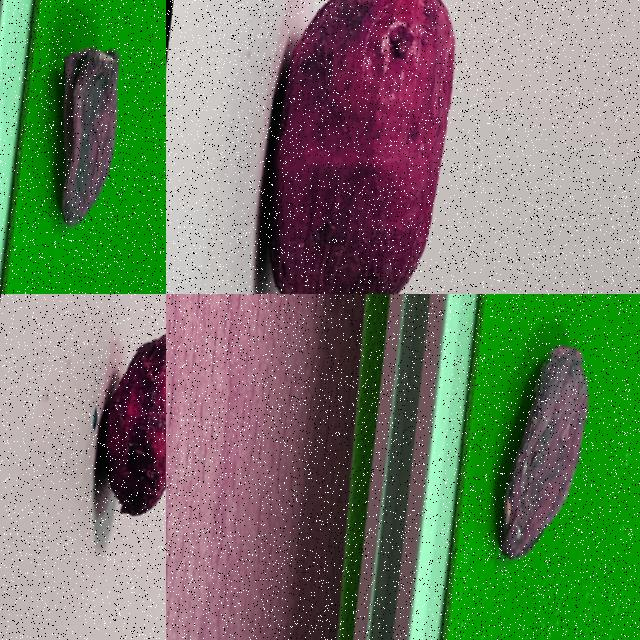Fine_cocoabeans: (221, 0, 488, 293)
Flat_cocoabeans: (461, 294, 631, 615), (17, 0, 159, 289), (38, 294, 165, 617)
